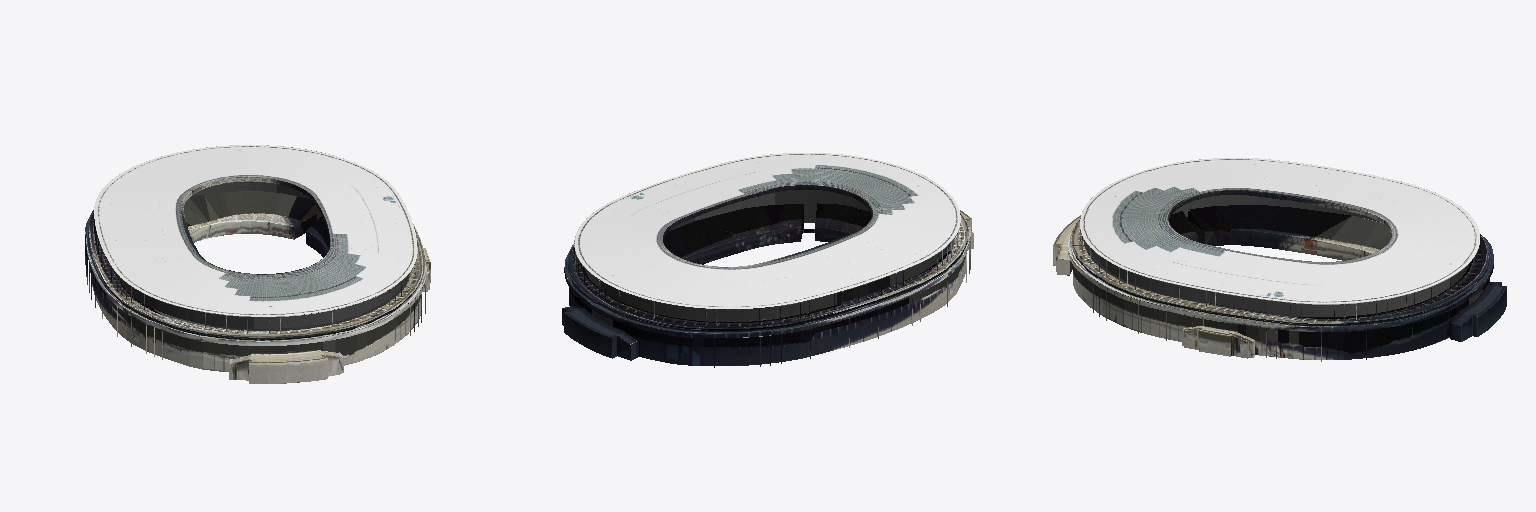
3 views of the same model, side by side, from view 1: azimuth 30°, elevation 25°; view 2: azimuth 150°, elevation 25°; view 3: azimuth 270°, elevation 25° (orthographic).
Visible parts, largest first — view 1: [number redacted]_bldg_6677; view 2: [number redacted]_bldg_6677; view 3: [number redacted]_bldg_6677.
Part boxes in pixels (left/top/right/bottom): [number redacted]_bldg_6677: left=85, top=145, right=430, bottom=383; [number redacted]_bldg_6677: left=562, top=153, right=973, bottom=367; [number redacted]_bldg_6677: left=1053, top=158, right=1506, bottom=361.
Bounding box in the file's own units: 2.75 × 0.5037 × 3.45.
Materials: 2 (2 with a texture image).